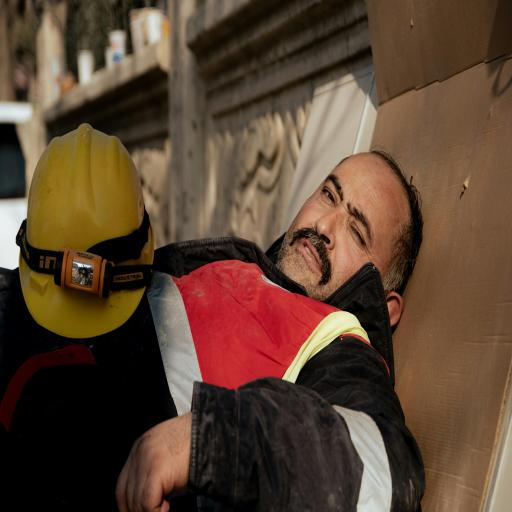no_helm: (259, 104, 443, 360)
